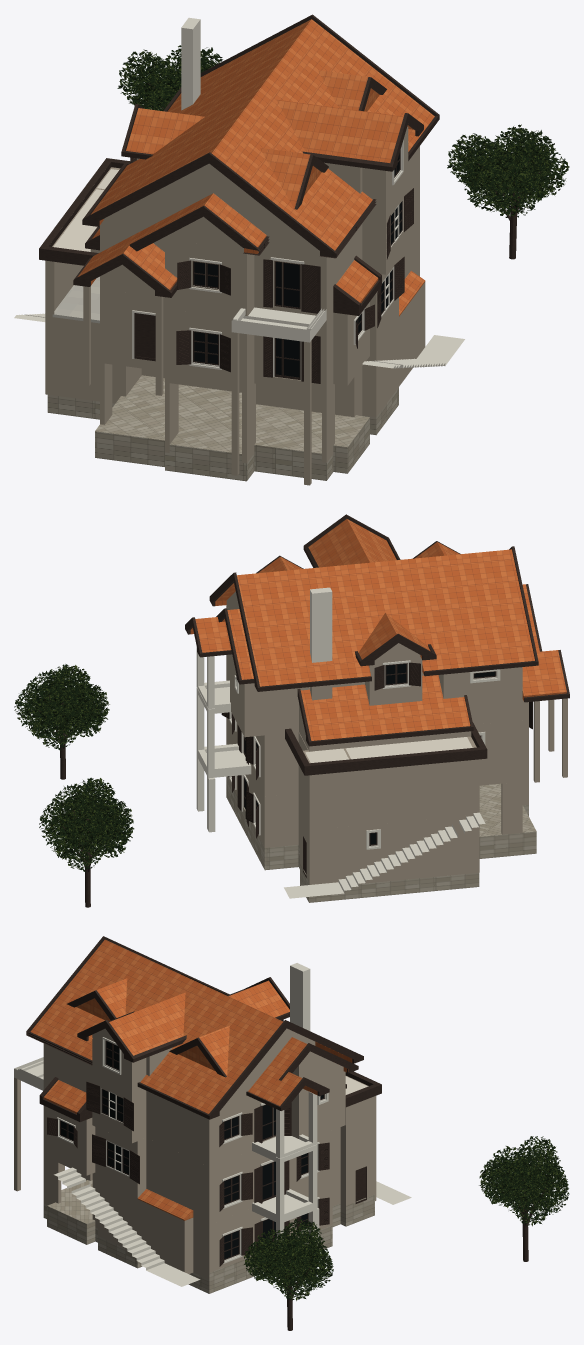
Rendered from context-detail-b23.glb.
The picture shows the model from 3 angles, top to bottom: view 1: azimuth 30°, elevation 25°; view 2: azimuth 150°, elevation 25°; view 3: azimuth 270°, elevation 25°; orthographic projection. The views are drawn at different scales.
Parts seen in each view (by area): view 1: B23 | ÇATII.003, B23 foundation below BK, B23 | KAT 0$DUVAR, B23 | KAT 1$DUVAR, B23 | KAT 2$DUVAR, B23 | KAT 3$DUVAR, B23 | ÇATI ALIN.002, Individual folded leaves.001, B23 | ÇATI ALIN.001, Individual folded leaves.002, B23 | PENCERE_KAPI$SHUTTER.001, B23 | ÇATII.002 (+15 smaller); view 2: B23 | ÇATII.003, B23 | KAT 1$DUVAR, B23 | KAT 0$DUVAR, B23 | KAT 2$DUVAR, B23 | ÇATII.002, B23 foundation below BK, Individual folded leaves.002, Individual folded leaves.001, B23 | ek dalgalar, B23 | ÇATI ALIN.002, B23 | ÇATI ALIN.001, B23 | ÇATI ALIN (+8 smaller); view 3: B23 | ÇATII.003, B23 | KAT 1$DUVAR, B23 | KAT 2$DUVAR, B23 | KAT 0$DUVAR, B23 | ÇATI ALIN.002, Individual folded leaves.002, B23 | ek dalgalar, Individual folded leaves.001, B23 foundation below BK, B23 | KAT 3$DUVAR, B23 | PENCERE_KAPI$SHUTTER.001, B23 | ek dalgalar.001 (+12 smaller).
Boxes of the visible parts, x1,y1,x2,y2 form: B23 | ÇATII.003: (90,19,434,253); B23 foundation below BK: (47,375,398,481); B23 | KAT 0$DUVAR: (45,268,425,485); B23 | KAT 1$DUVAR: (45,167,419,395); B23 | KAT 2$DUVAR: (90,146,419,318); B23 | KAT 3$DUVAR: (103,126,408,249); B23 | ÇATI ALIN.002: (82,14,439,257); Individual folded leaves.001: (447,124,569,217); B23 | ÇATI ALIN.001: (73,87,439,308); Individual folded leaves.002: (117,45,222,111); B23 | PENCERE_KAPI$SHUTTER.001: (176,256,404,383); B23 | ÇATII.002: (78,219,377,302); B23 | ÇATII.003: (191,519,539,686); B23 | KAT 1$DUVAR: (226,663,567,830); B23 | KAT 0$DUVAR: (226,701,539,884); B23 | KAT 2$DUVAR: (226,605,522,751); B23 | ÇATII.002: (190,600,566,740); B23 foundation below BK: (226,776,536,902); Individual folded leaves.002: (39,777,134,871); Individual folded leaves.001: (14,664,109,750); B23 | ek dalgalar: (196,691,485,898); B23 | ÇATI ALIN.002: (185,514,542,690); B23 | ÇATI ALIN.001: (185,597,569,746); B23 | ÇATI ALIN: (285,722,487,775); B23 | ÇATII.003: (30,939,338,1113); B23 | KAT 1$DUVAR: (43,1076,376,1224); B23 | KAT 2$DUVAR: (43,1043,345,1166); B23 | KAT 0$DUVAR: (14,1077,376,1279); B23 | ÇATI ALIN.002: (26,936,363,1115); Individual folded leaves.002: (479,1136,569,1226); B23 | ek dalgalar: (54,1162,411,1286); Individual folded leaves.001: (244,1219,333,1300); B23 foundation below BK: (43,1180,374,1293); B23 | KAT 3$DUVAR: (92,1028,343,1105); B23 | PENCERE_KAPI$SHUTTER.001: (47,1117,329,1211); B23 | ek dalgalar.001: (14,1061,317,1234).
Size of the model in its own units: 26.24 by 14.71 by 28.4.
12 materials, 12 textured.
